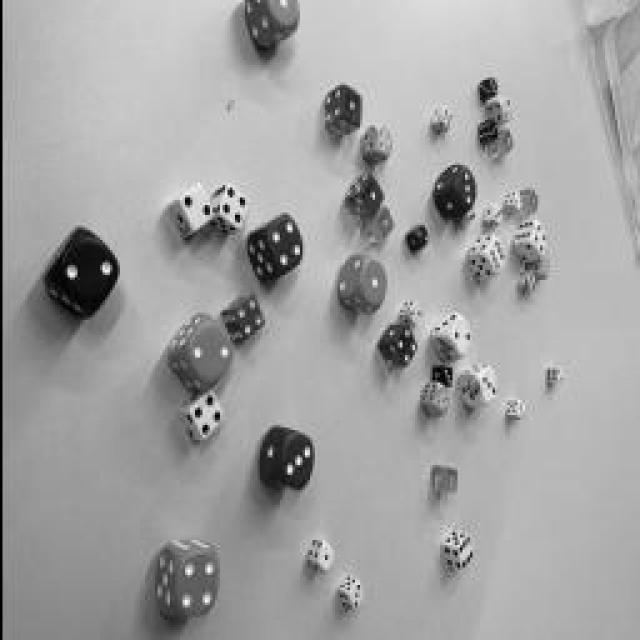dice_1: (360, 262, 382, 300), (267, 0, 295, 28), (361, 176, 379, 214), (342, 88, 358, 122), (318, 545, 332, 570)
dice_2: (48, 235, 112, 313), (188, 324, 230, 381), (180, 188, 210, 228), (448, 318, 468, 352), (408, 304, 418, 324), (415, 228, 425, 248), (499, 100, 509, 120), (512, 194, 520, 208), (555, 368, 560, 382)
dice_3: (281, 438, 309, 482), (458, 168, 472, 208), (478, 371, 494, 401), (434, 386, 446, 412), (350, 582, 360, 608), (444, 468, 454, 492), (440, 368, 450, 388), (500, 130, 510, 150), (527, 190, 535, 210), (490, 208, 500, 222), (487, 122, 495, 138), (516, 401, 522, 419), (540, 255, 545, 275)
dice_4: (175, 554, 215, 614), (265, 216, 300, 269), (189, 392, 221, 438), (234, 298, 261, 338), (220, 185, 245, 225), (394, 325, 414, 365), (530, 222, 545, 252), (375, 128, 390, 152)
dice_5: (376, 209, 389, 236), (487, 80, 495, 95)
dice_6: (455, 535, 470, 570), (486, 239, 502, 271), (440, 108, 450, 128), (526, 271, 534, 291), (465, 205, 473, 220)
